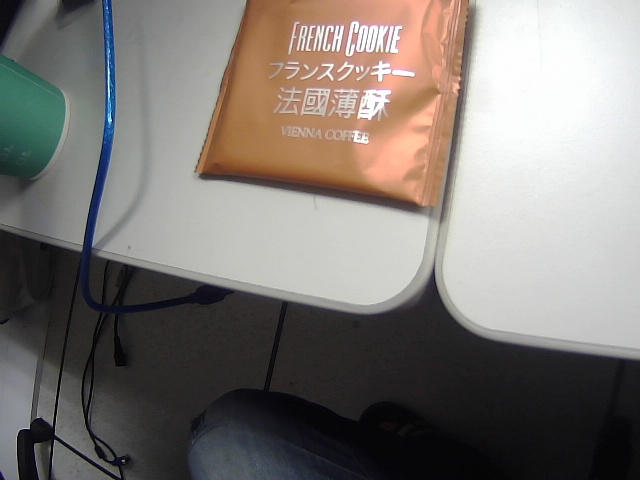frenchcookie: (196, 1, 473, 216)
